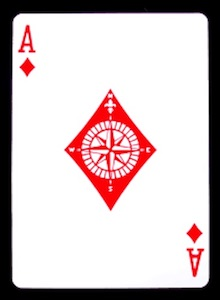AceOfDiamonds: (9, 10, 213, 294)
